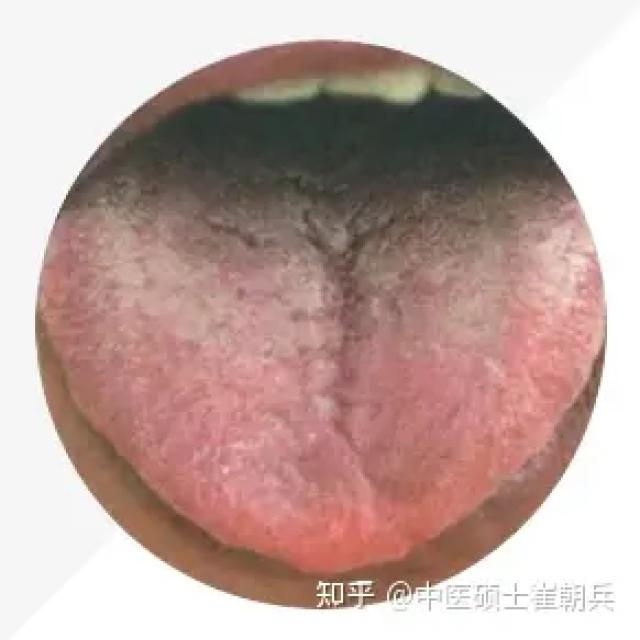tongue: (44, 132, 614, 568)
